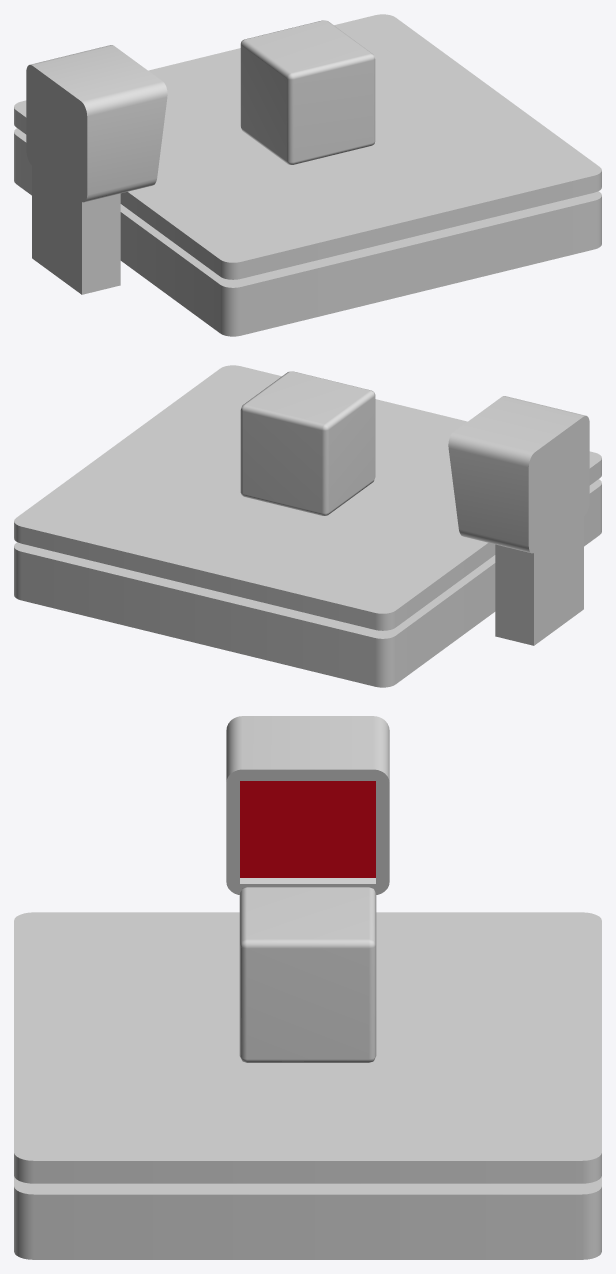
Rendered from device.glb.
3 renders of one model, top to bottom at view 1: azimuth 30°, elevation 25°; view 2: azimuth 150°, elevation 25°; view 3: azimuth 270°, elevation 25°, orthographic. The views are drawn at different scales.
Parts seen in each view (by area): view 1: Scale, Scanner, Placeholder; view 2: Scale, Scanner, Placeholder; view 3: Scale, Scanner, Placeholder.
Part boxes in pixels (box(x1,y1,x2,y2)): Scale: box(14, 14, 601, 336); Scanner: box(26, 45, 167, 294); Placeholder: box(240, 20, 375, 164); Scale: box(14, 365, 601, 687); Scanner: box(448, 396, 589, 645); Placeholder: box(240, 371, 375, 515); Scale: box(14, 912, 601, 1259); Scanner: box(226, 716, 389, 894); Placeholder: box(239, 887, 376, 1062).
Bounding box in the file's own units: 1.9 × 0.7966 × 1.64.
